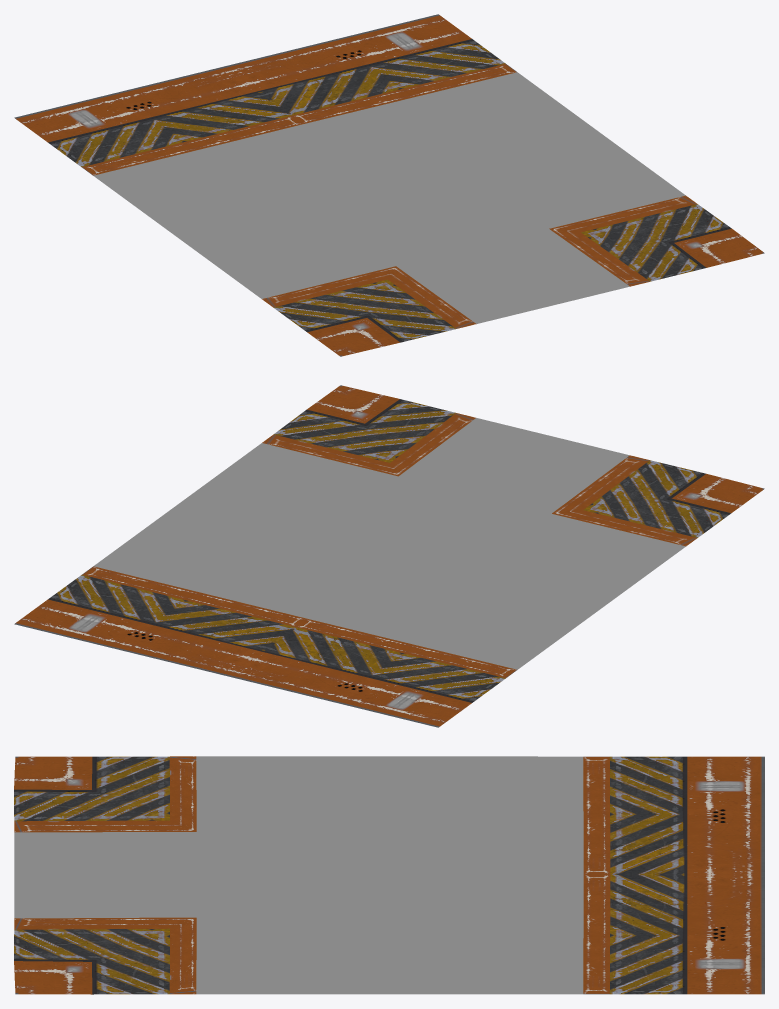
The model's file is floor_t.FBX.
3 views of the same model, one above another, from view 1: azimuth 30°, elevation 25°; view 2: azimuth 150°, elevation 25°; view 3: azimuth 270°, elevation 25° (orthographic). The views are drawn at different scales.
Visible parts, largest first — view 1: Object017; view 2: Object017; view 3: Object017.
Boxes of the visible parts, box(x1,y1,x2,y2) form: Object017: box(14, 14, 764, 356); Object017: box(14, 385, 764, 727); Object017: box(14, 756, 764, 994).
Bounding box in the file's own units: 300 × 0.1009 × 401.
